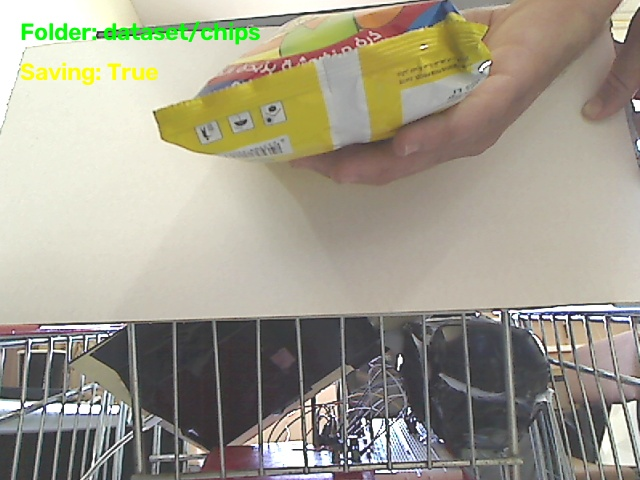chips: (155, 1, 490, 160)
